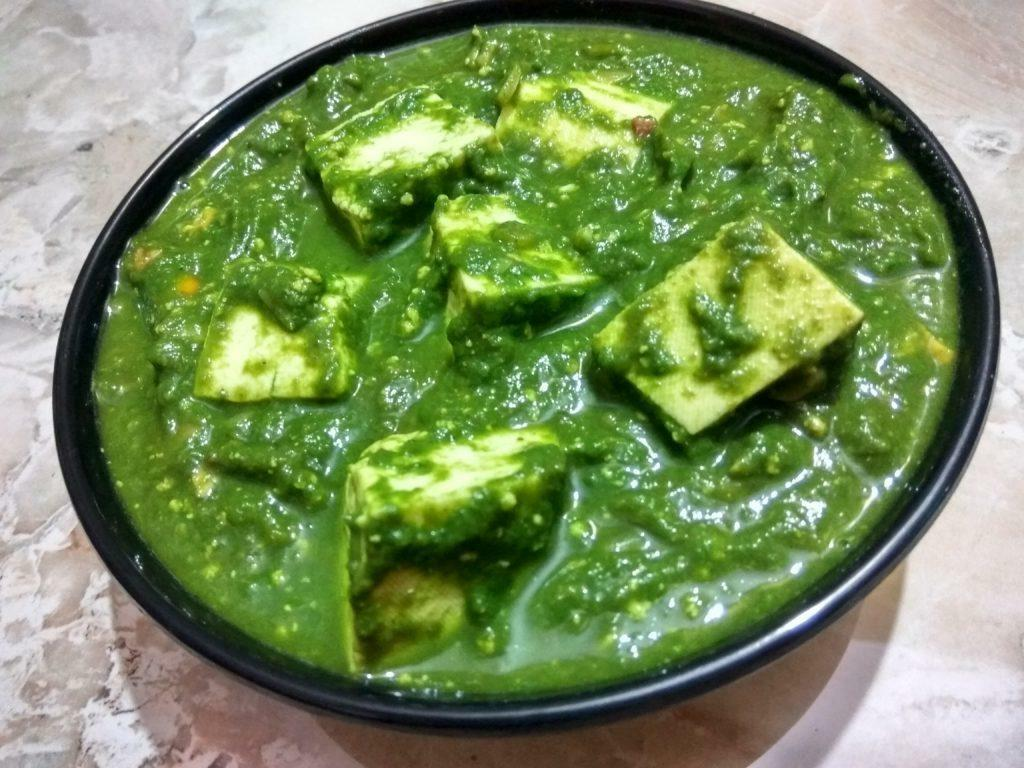PalakPaneer: (96, 14, 966, 695)
